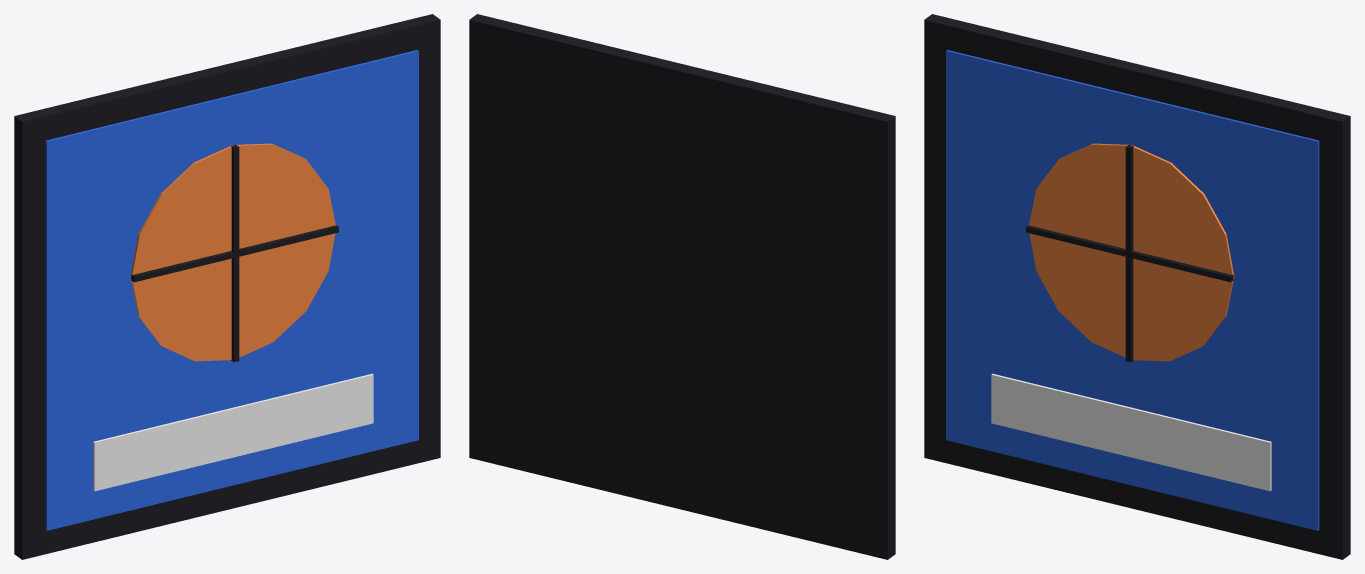
Rendered from poster.288c70a66ba3.glb.
The picture shows the model from 3 angles, left to right: view 1: azimuth 30°, elevation 25°; view 2: azimuth 150°, elevation 25°; view 3: azimuth 330°, elevation 25°; orthographic projection.
Parts seen in each view (by area): view 1: poster; view 2: poster; view 3: poster.
Boxes of the visible parts, x1,y1,x2,y2 form: poster: (14,14,440,559); poster: (469,14,895,559); poster: (924,14,1350,559).
Size of the model in its own units: 0.9 by 0.9 by 0.0487.
